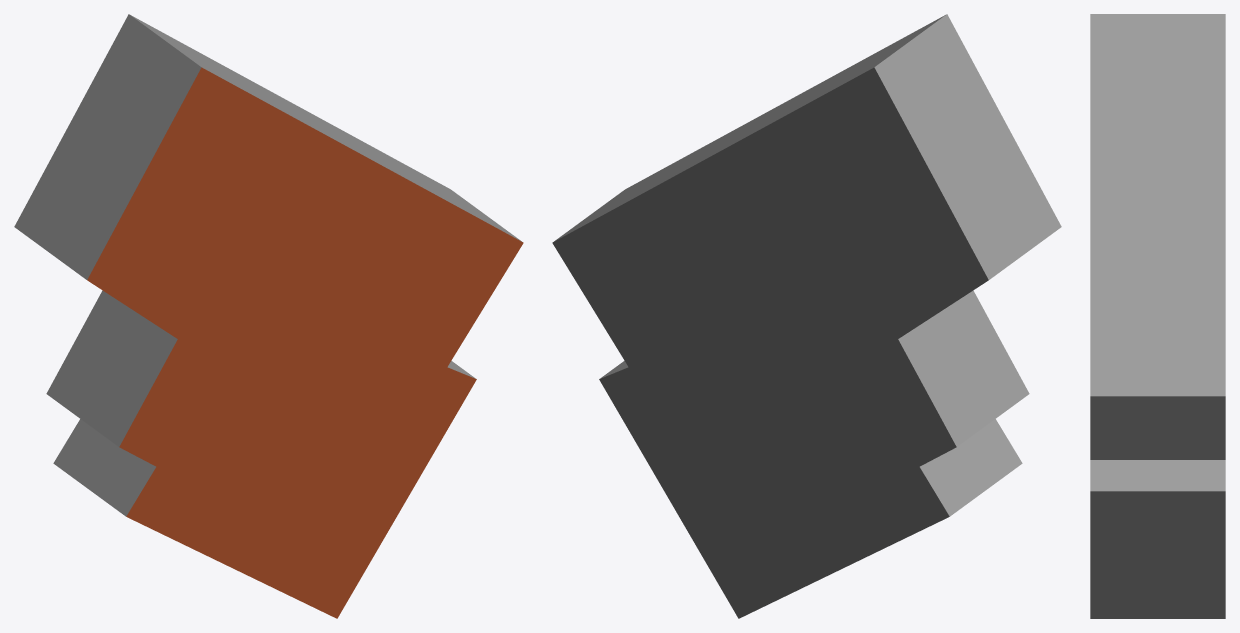
File: construction_3431_assumed_A_Casa_h6m.obj
3 renders of one model, left to right at view 1: azimuth 30°, elevation 25°; view 2: azimuth 150°, elevation 25°; view 3: azimuth 270°, elevation 25°, orthographic. The views are drawn at different scales.
Parts seen in each view (by area): view 1: construction_3431_assumed_A_Casa; view 2: construction_3431_assumed_A_Casa; view 3: construction_3431_assumed_A_Casa.
Boxes of the visible parts, box(x1,y1,x2,y2) form: construction_3431_assumed_A_Casa: box(14, 14, 523, 618); construction_3431_assumed_A_Casa: box(552, 14, 1061, 618); construction_3431_assumed_A_Casa: box(1090, 14, 1225, 618).
Bounding box in the file's own units: 20.76 × 26.57 × 6.
